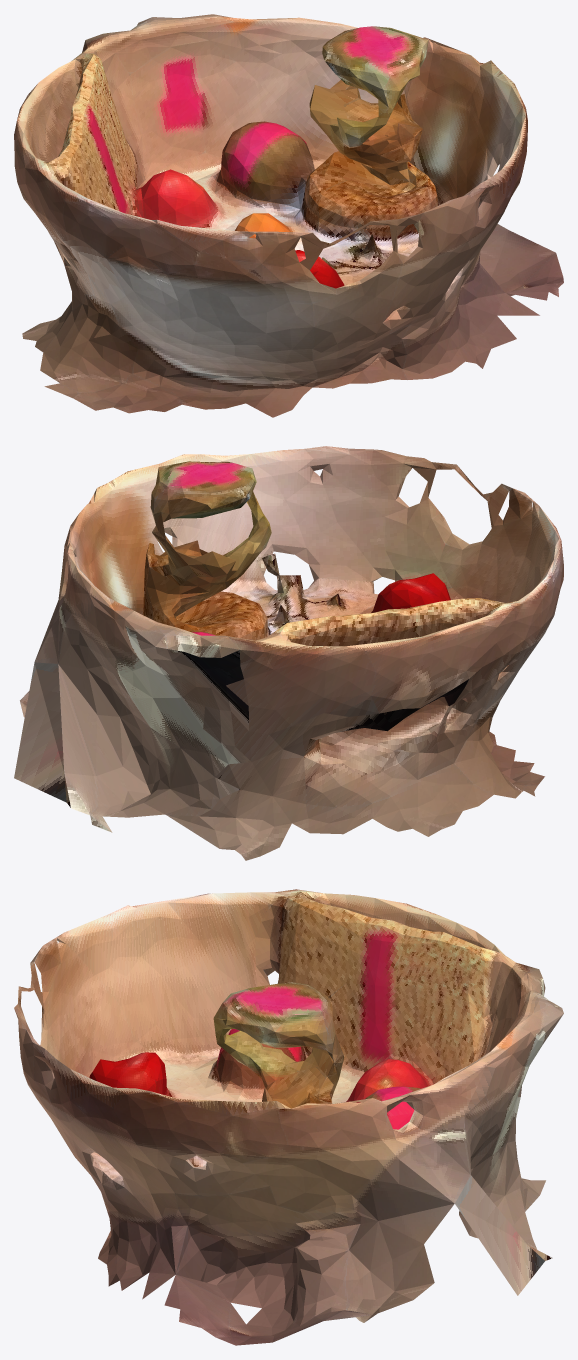
Rendered from mixing-bowl.glb.
3 views of the same model, one above another, from view 1: azimuth 30°, elevation 25°; view 2: azimuth 150°, elevation 25°; view 3: azimuth 270°, elevation 25° (orthographic). The views are drawn at different scales.
Parts seen in each view (by area): view 1: Mesh_0.005; view 2: Mesh_0.005; view 3: Mesh_0.005.
Part boxes in pixels (x1,y1,x2,y2): Mesh_0.005: [14, 14, 563, 417]; Mesh_0.005: [14, 446, 563, 860]; Mesh_0.005: [14, 889, 563, 1345].
Size of the model in its own units: 0.3781 by 0.1916 by 0.3436.
Materials: 1 (1 with a texture image).
